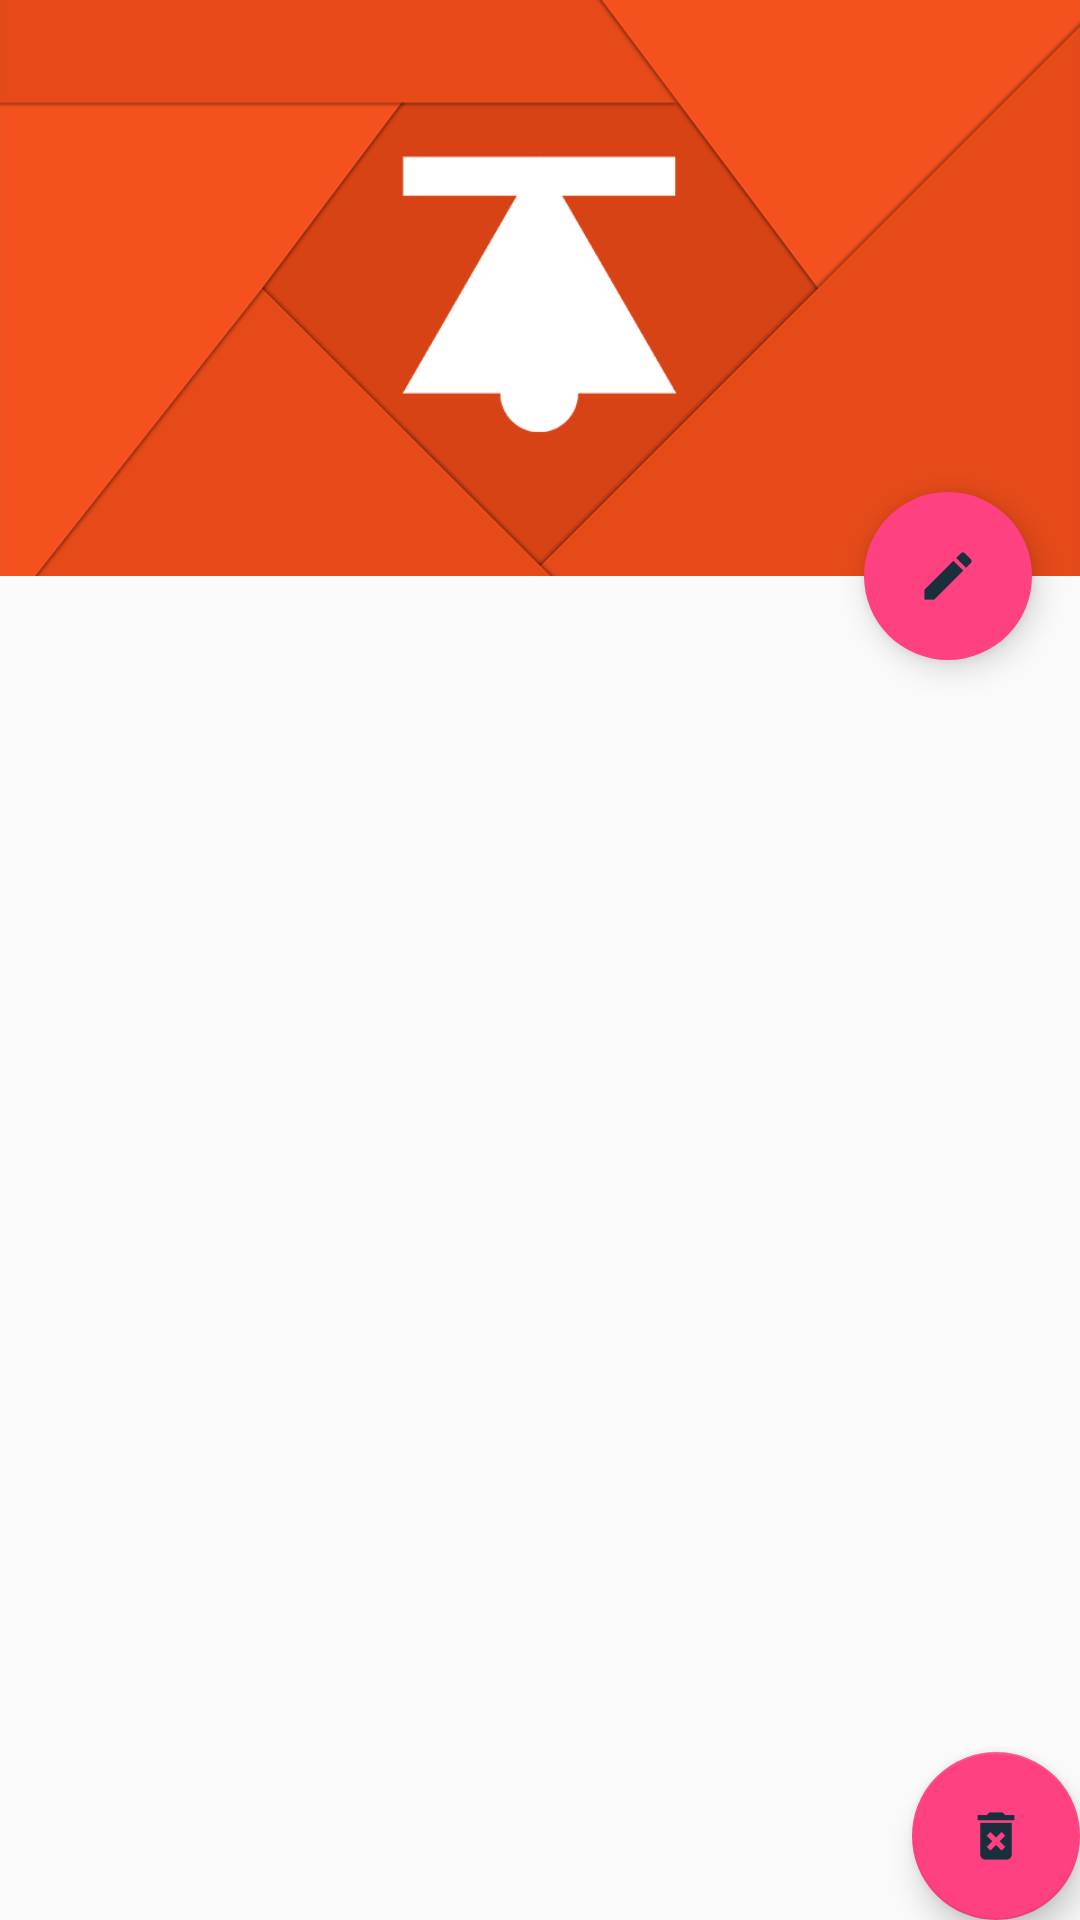

Icons on this 1080 x 1920 Android screen, each with the point to tap as (x,y):
delete: (996,1836)
edit: (948,576)
